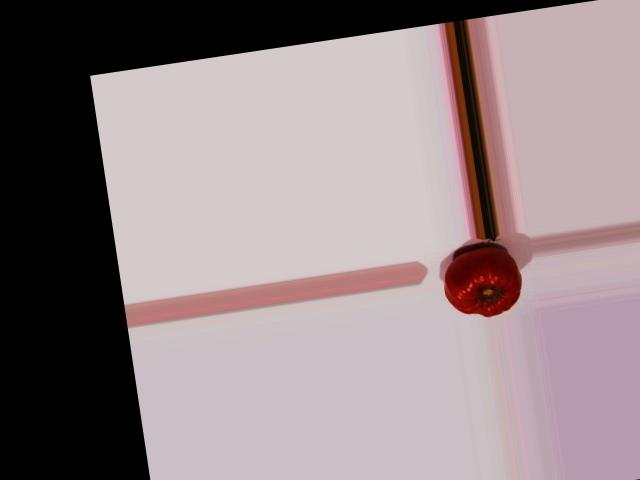tomato: (440, 243, 525, 321)
